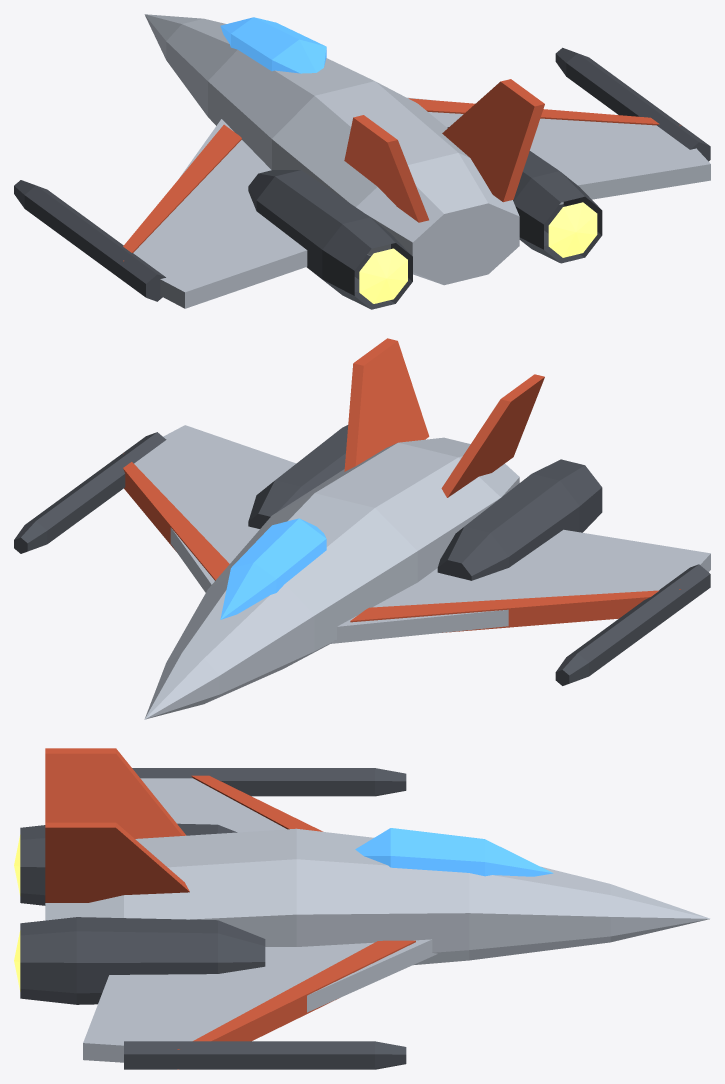
The model's file is player_ship.glb.
3 renders of one model, top to bottom at view 1: azimuth 30°, elevation 25°; view 2: azimuth 150°, elevation 25°; view 3: azimuth 270°, elevation 25°, orthographic. The views are drawn at different scales.
Visible parts, largest first — view 1: player_ship; view 2: player_ship; view 3: player_ship.
Part boxes in pixels (x1,y1,x2,y2): player_ship: (14, 14, 710, 309); player_ship: (14, 338, 710, 719); player_ship: (14, 748, 710, 1069).
Bounding box in the file's own units: 2.15 × 0.6048 × 2.22.
